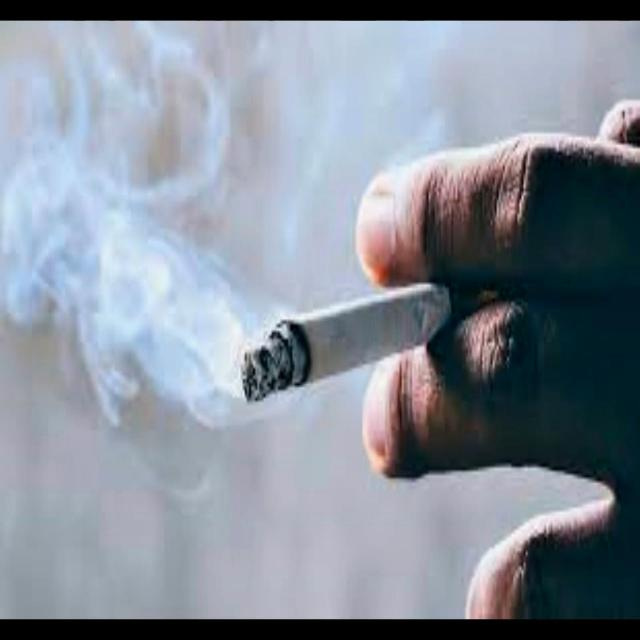smoke: (172, 124, 542, 515)
